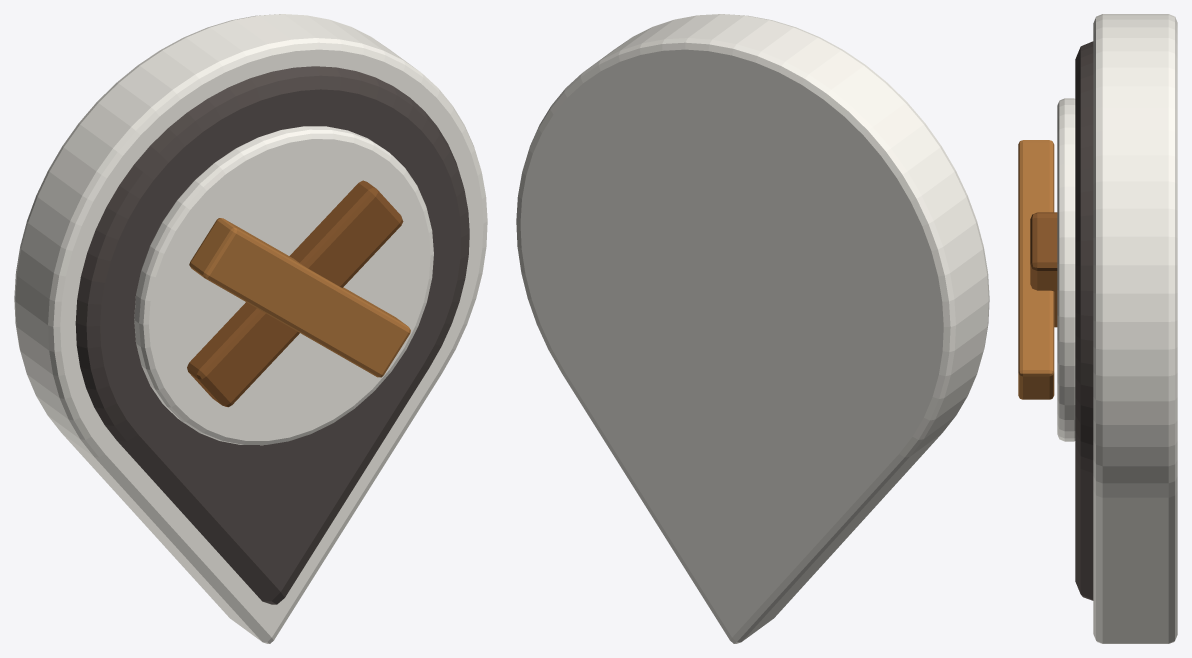
Rendered from badge_abandoned.glb.
3 views of the same model, side by side, from view 1: azimuth 30°, elevation 25°; view 2: azimuth 150°, elevation 25°; view 3: azimuth 270°, elevation 25° (orthographic).
Parts seen in each view (by area): view 1: pin, border, disc, symbol_1_0, symbol_0_0; view 2: border; view 3: border, pin, symbol_1_0, disc, symbol_0_0.
Part boxes in pixels (box(x1,y1,x2,y2)): pin: box(75, 66, 469, 604); border: box(14, 14, 487, 643); disc: box(134, 126, 433, 445); symbol_1_0: box(189, 218, 410, 377); symbol_0_0: box(187, 180, 403, 407); border: box(516, 14, 989, 643); border: box(1093, 14, 1177, 643); pin: box(1075, 41, 1093, 600); symbol_1_0: box(1018, 140, 1054, 399); disc: box(1057, 98, 1075, 441); symbol_0_0: box(1030, 212, 1057, 327).
Size of the model in its own units: 0.85 by 1.11 by 0.265.
